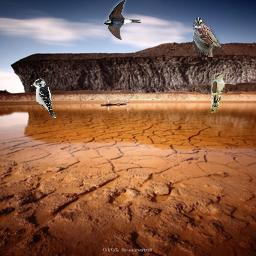Cuckoo: (211, 73, 225, 113)
Sparrow: (193, 17, 230, 57)
Swallow: (103, 0, 141, 40)
Woodpecker: (29, 78, 56, 118)
